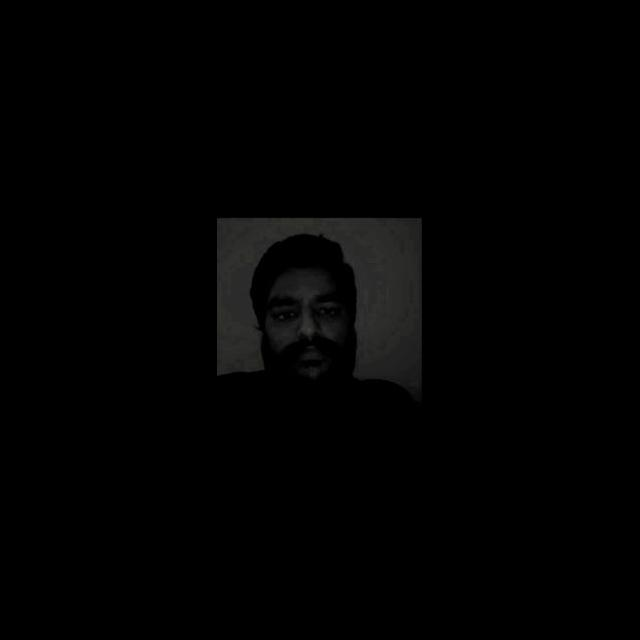Natural: (252, 253, 365, 389)
